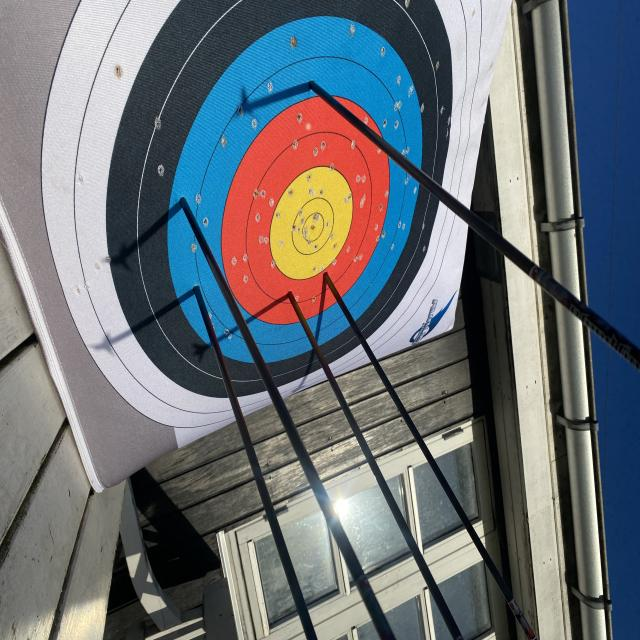Arrow_Blue: (173, 184, 198, 224), (306, 64, 326, 104), (185, 277, 210, 308)
Arrow_Red: (276, 278, 298, 309), (319, 258, 337, 294)
